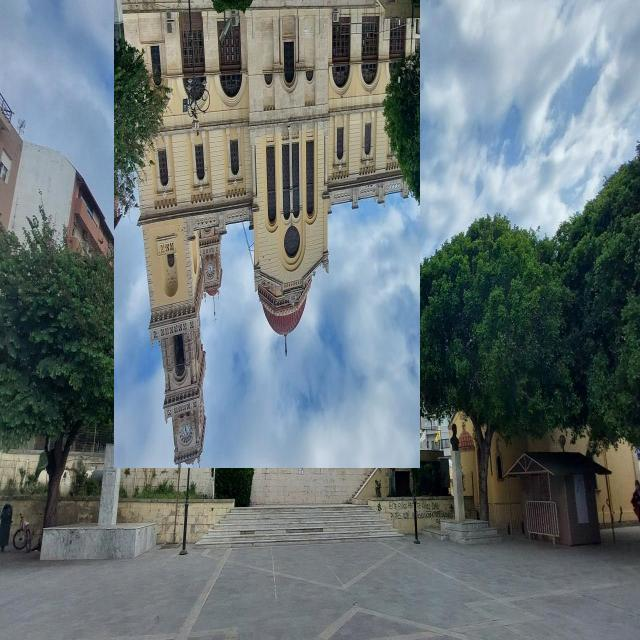Agios Minas: (115, 1, 421, 469)
